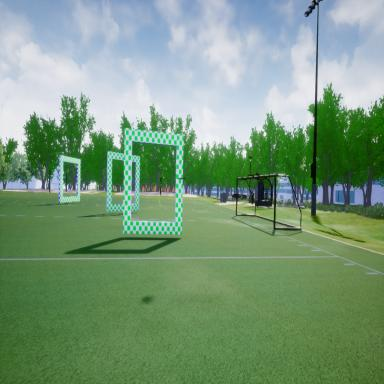gate: (122, 126, 185, 246), (105, 149, 142, 215), (57, 152, 82, 206)
